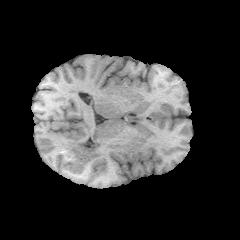glioma: (54, 137, 103, 170)
